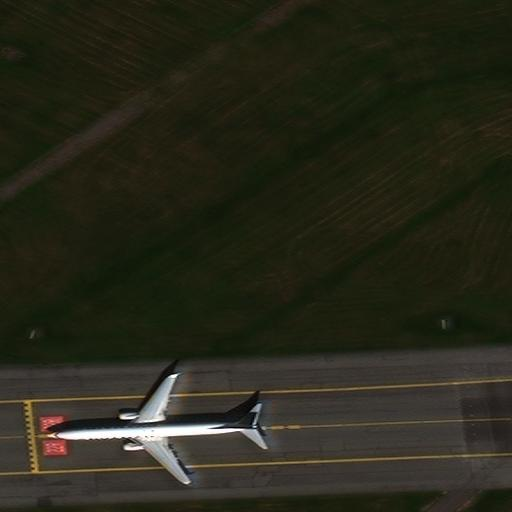Large Civil Transport: (42, 371, 265, 485)
